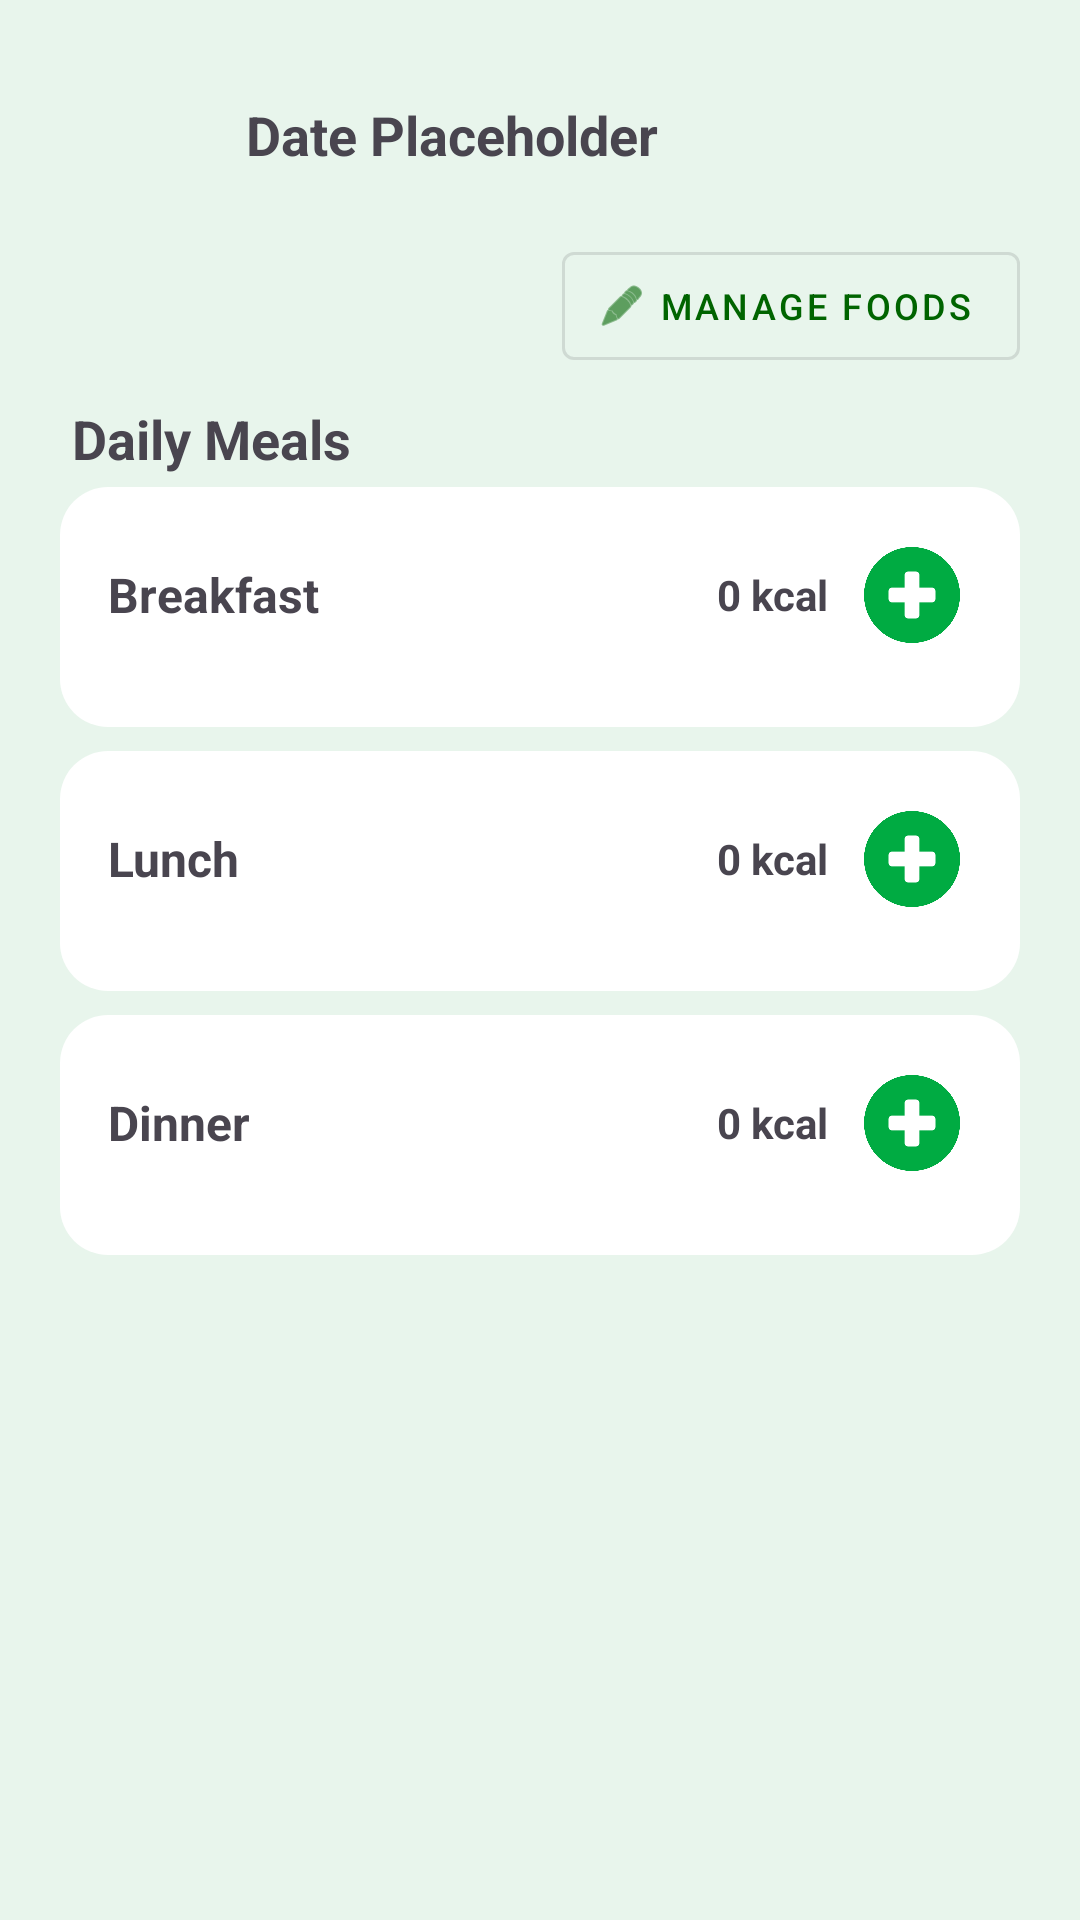

Named icons in this screenshot (1080px x 1920px) and their bounding boxes, (x1, y1, x2, y2):
Add Breakfast: (864, 547, 960, 643)
Add Dinner: (864, 1075, 960, 1171)
Add Lunch: (864, 811, 960, 907)
